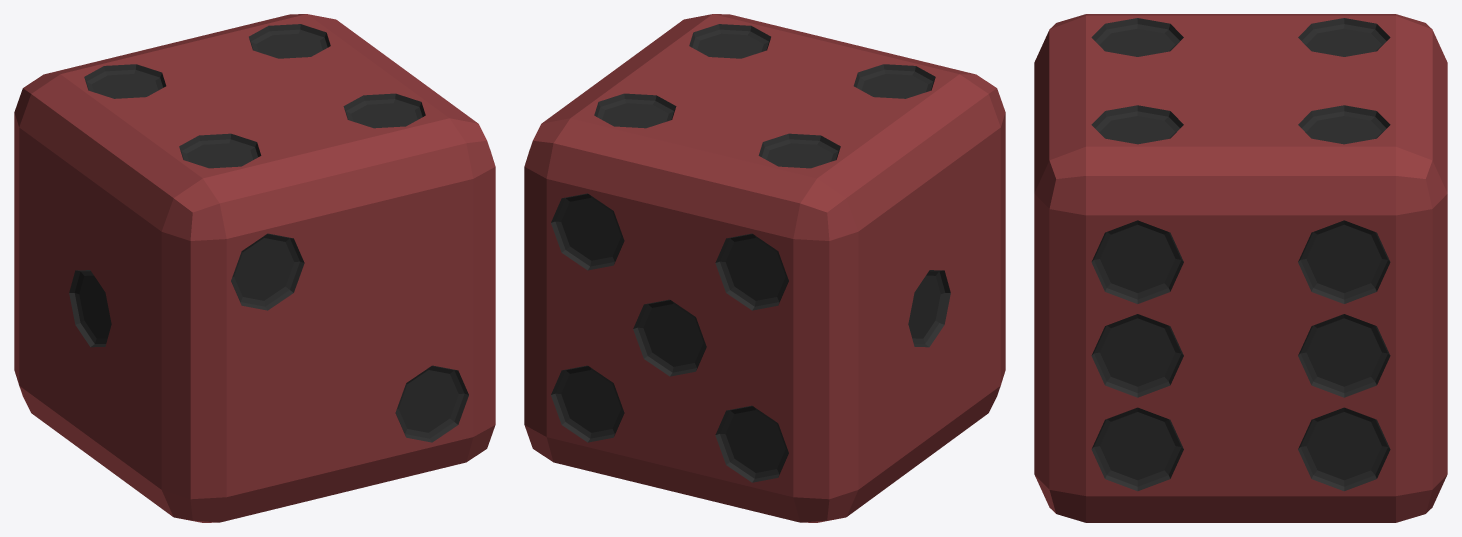
File: RedDice.fbx
3 views of the same model, side by side, from view 1: azimuth 30°, elevation 25°; view 2: azimuth 150°, elevation 25°; view 3: azimuth 270°, elevation 25° (orthographic). The views are drawn at different scales.
Parts seen in each view (by area): view 1: Cube; view 2: Cube; view 3: Cube.
Part boxes in pixels (bbox=[...]): Cube: bbox=[14, 14, 495, 522]; Cube: bbox=[524, 14, 1005, 522]; Cube: bbox=[1034, 14, 1447, 522].
Bounding box in the file's own units: 200 × 200 × 200.
